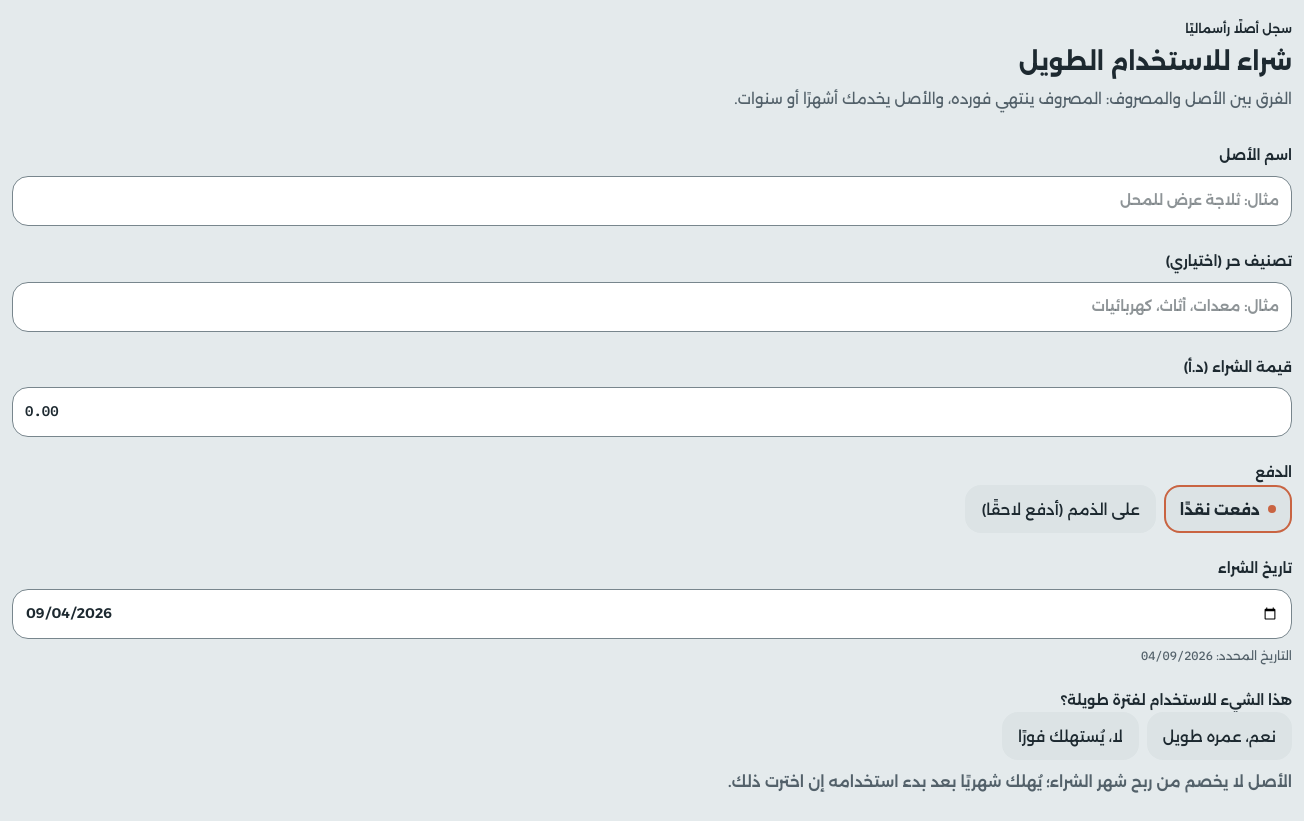
Test: G4 assets surfaces (المجموعة ٤ — عقد ٢٩) › rejects saving an asset with an unknown life chosen but invalid life entered
The width and height of the screenshot is (1304, 821).
Type "ماكينة" into the field with placeholder "مثال: ثلاجة عرض للمحل".
click(652, 201); type("ماكينة")  # box x1=12 y1=176 x2=1292 y2=226
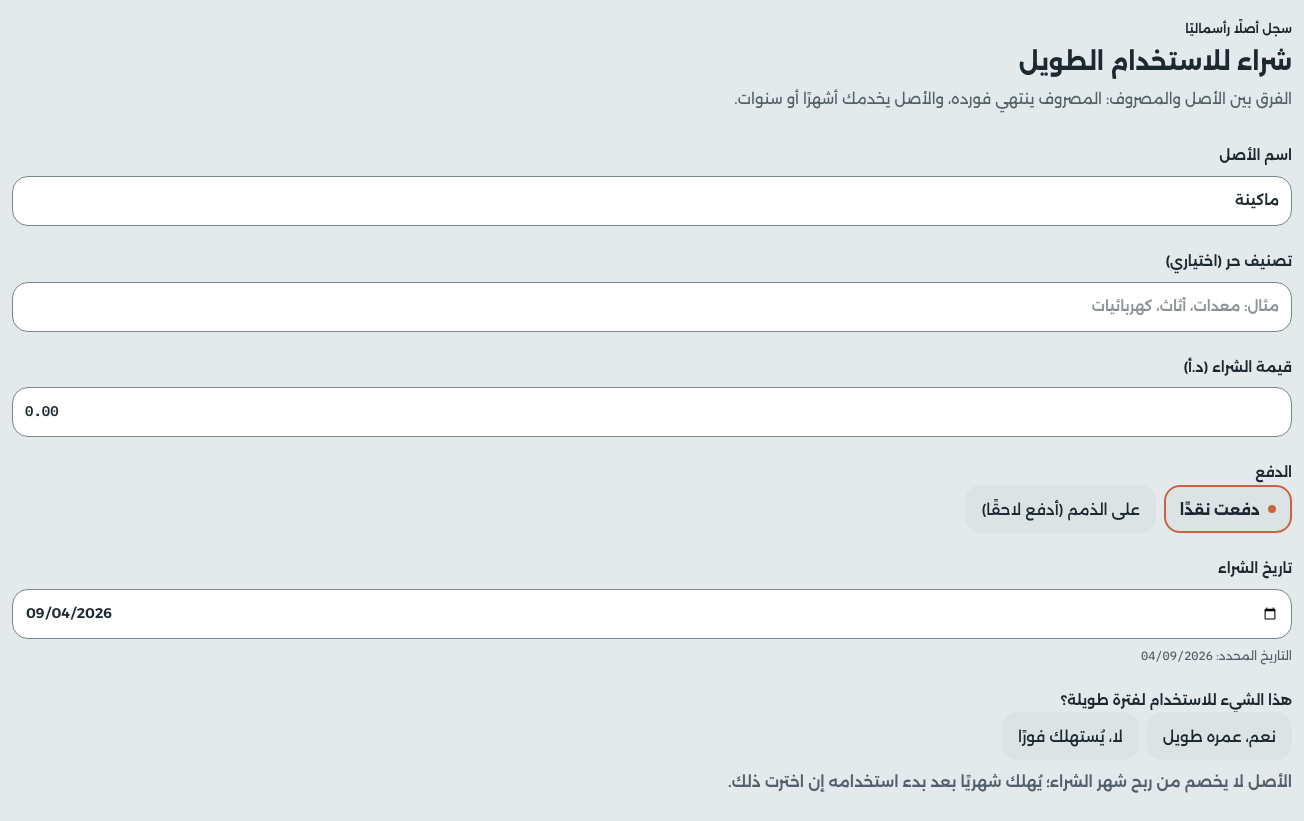
Replace the text in the field labelled "قيمة الشراء" with "100" at {"x": 652, "y": 412}, box x1=12 y1=388 x2=1292 y2=437
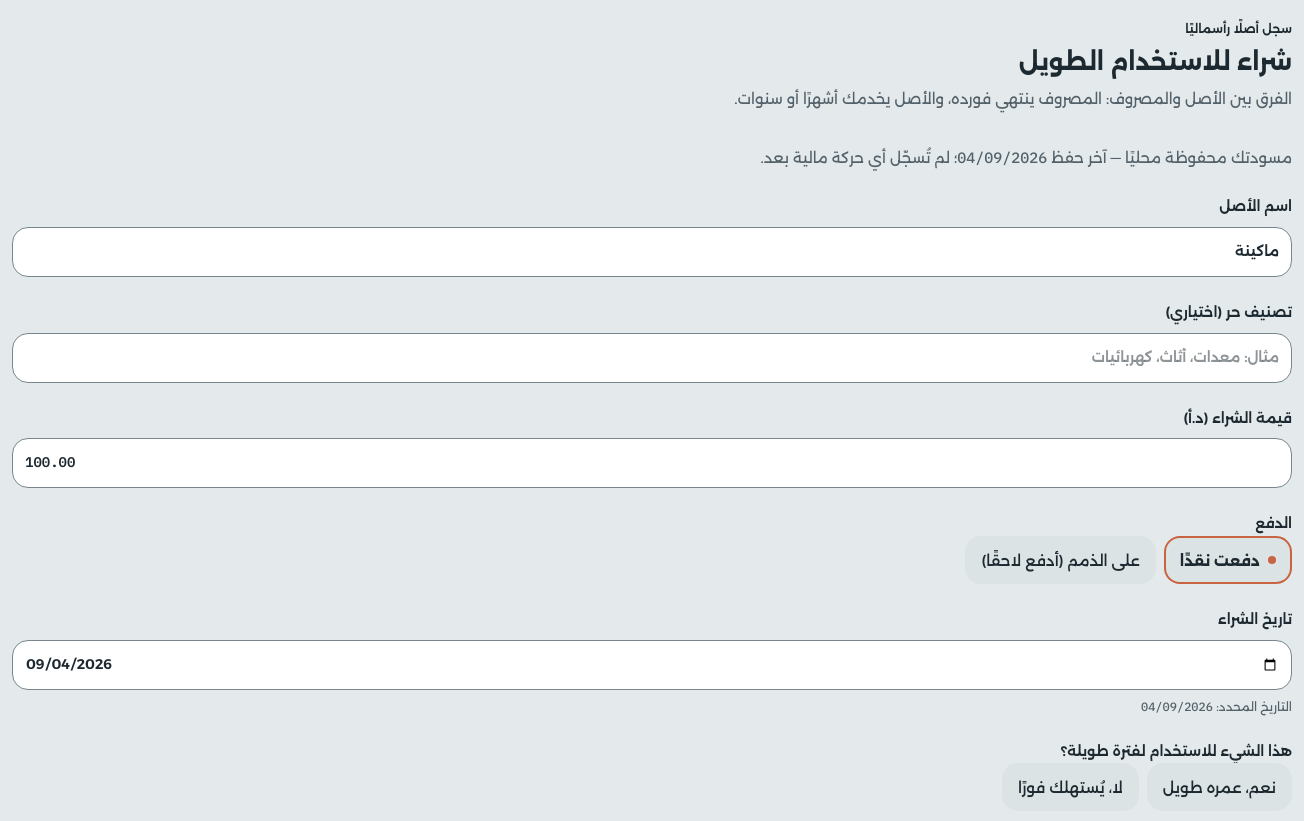
Click the button "نعم، عمره طويل".
click(1219, 787)  # box x1=1147 y1=763 x2=1292 y2=811
(page scrolled)
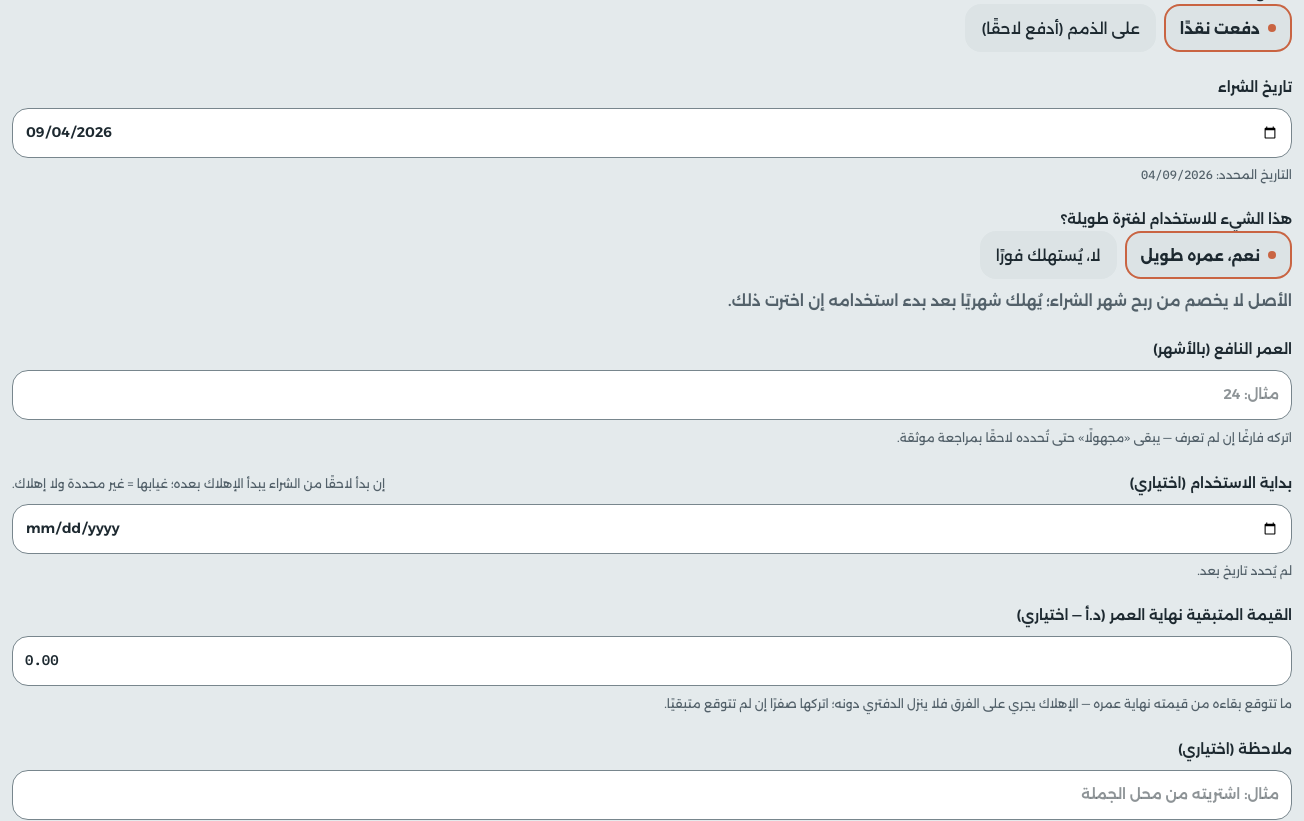
Type "0" into the field with placeholder "مثال: 24".
click(652, 395); type("0")  # box x1=12 y1=370 x2=1292 y2=420
(page scrolled)
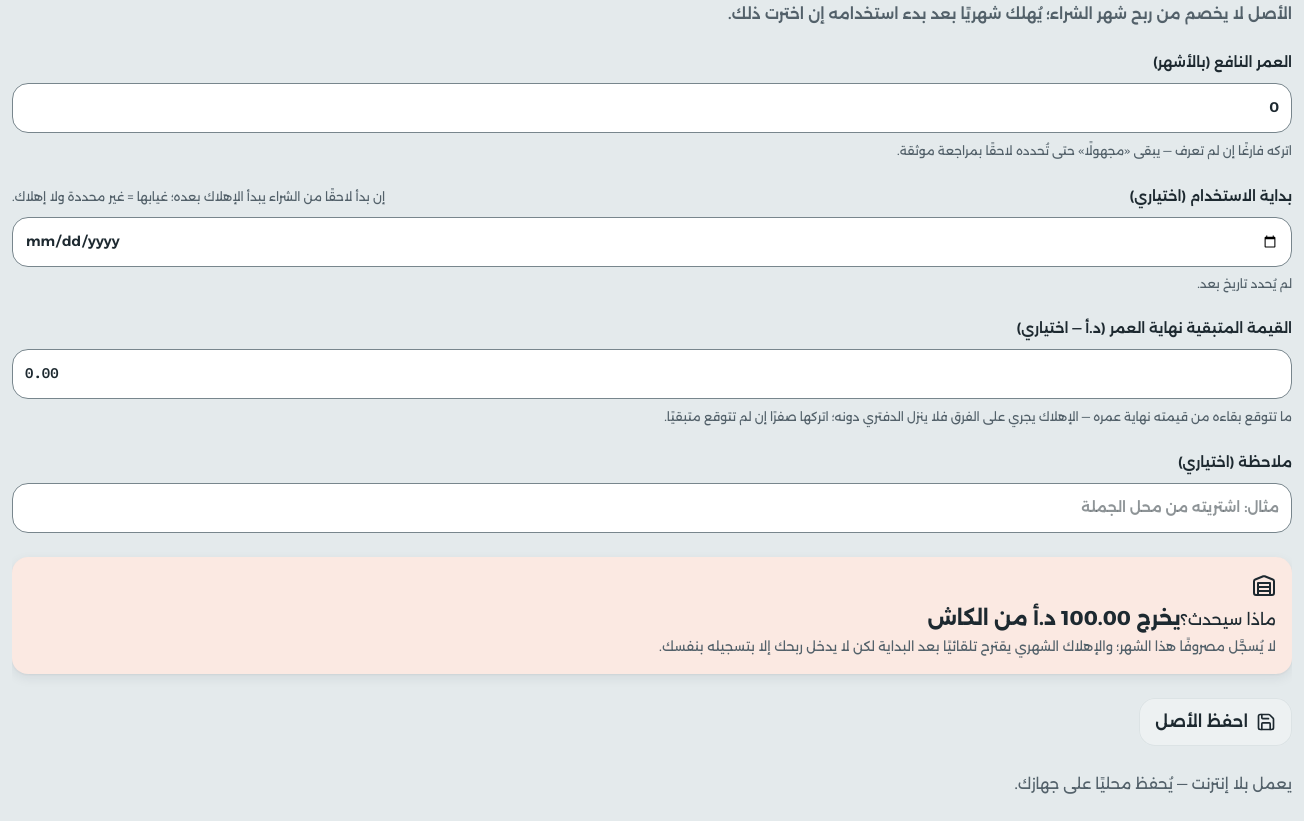
Click the button "احفظ الأصل".
click(1216, 722)  # box x1=1139 y1=698 x2=1292 y2=746
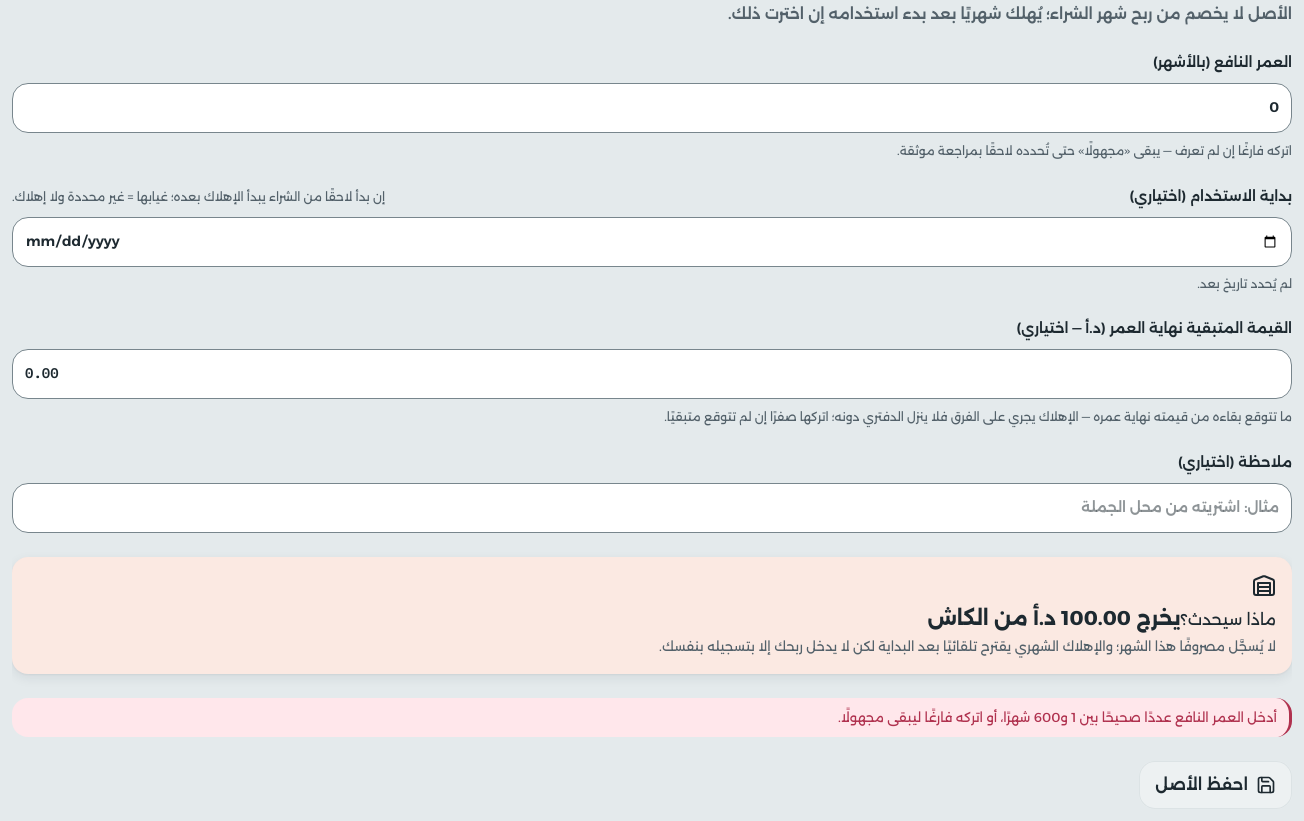
Expected: the message shows "العمر النافع", x1=838 y1=709 x2=1277 y2=725
